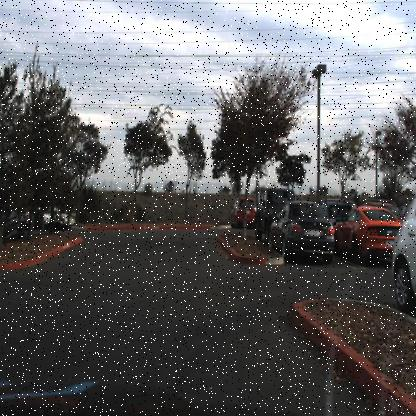car: (266, 198, 341, 264), (334, 202, 404, 265), (392, 192, 415, 315), (252, 187, 297, 244), (0, 196, 28, 244), (229, 193, 256, 230), (254, 186, 272, 241), (42, 208, 68, 230)
